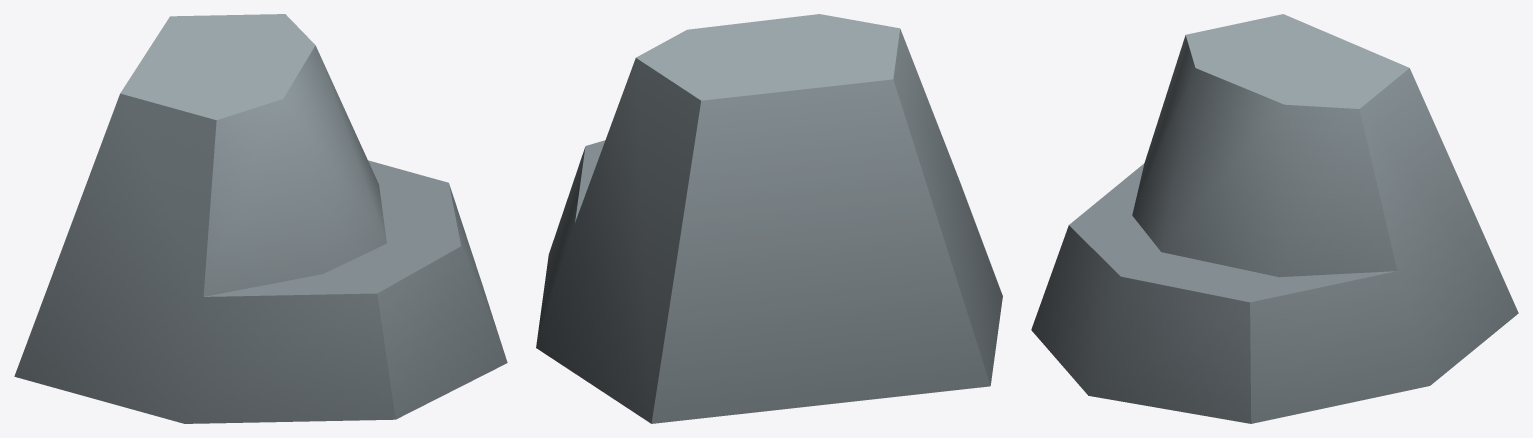
File: rock_single_C.gltf
3 views of the same model, side by side, from view 1: azimuth 30°, elevation 25°; view 2: azimuth 150°, elevation 25°; view 3: azimuth 270°, elevation 25° (orthographic). The views are drawn at different scales.
Parts seen in each view (by area): view 1: rock_single_C; view 2: rock_single_C; view 3: rock_single_C.
Part boxes in pixels (x1,y1,x2,y2): rock_single_C: [14, 14, 507, 423]; rock_single_C: [536, 14, 1002, 423]; rock_single_C: [1031, 14, 1518, 423].
Bounding box in the file's own units: 0.3439 × 0.1948 × 0.3442.
Materials: 1 (1 with a texture image).
